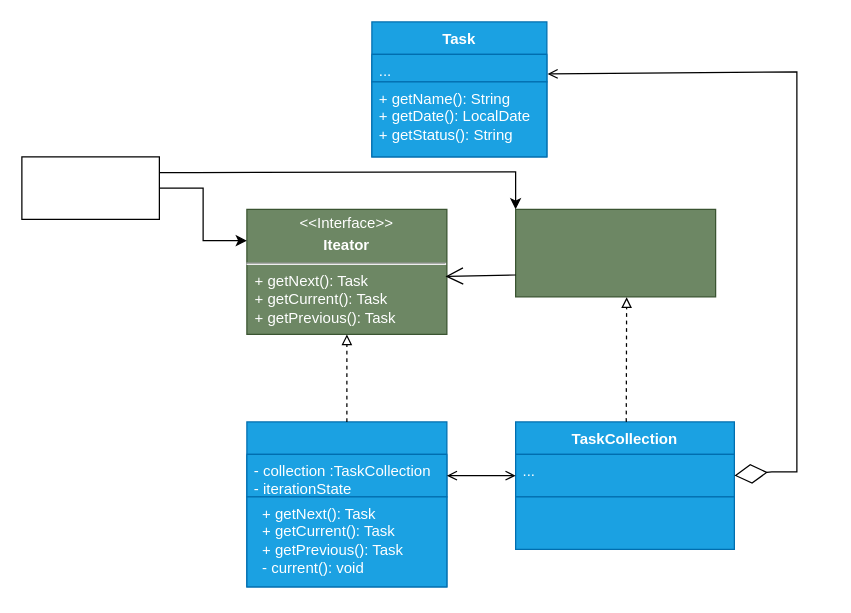
The diagram is 851 pixels wide and 613 high, and some of its shapes have lost their labels. Each missing label, with the box of its shape:
+ createTaskIterator(): Iterator - requesFakeToDoList: (514, 496, 734, 549)
<<Interface>> TaskCollection + createIterator(): Iterator: (514, 208, 716, 297)
ClientCode (IteratorTest): (21, 156, 159, 219)
TaskIterator: (246, 421, 447, 587)
